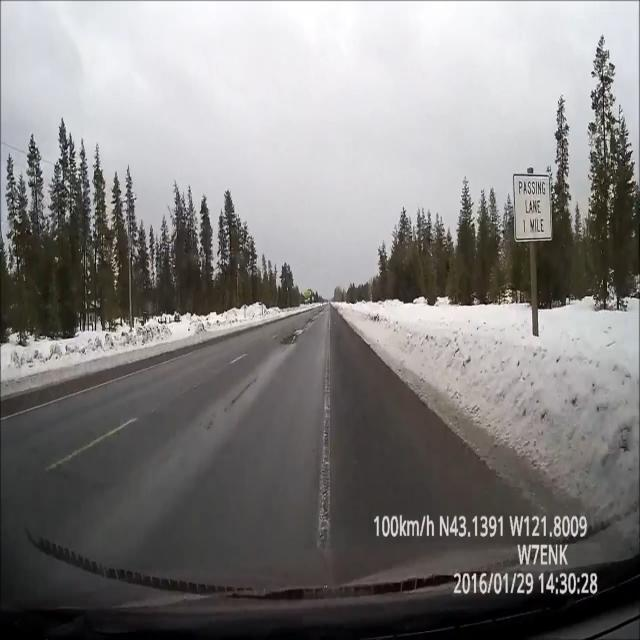Pothole: (279, 312, 315, 348)
